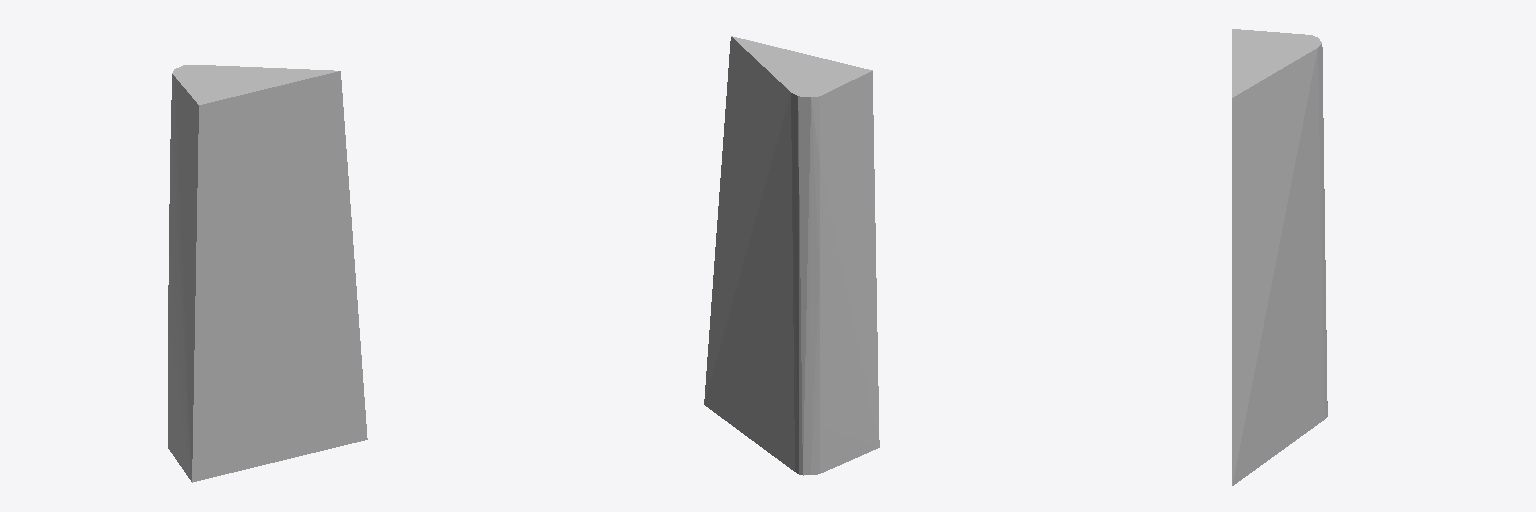
File: box_long_brown_M_collision_4.obj
The picture shows the model from 3 angles: view 1: azimuth 30°, elevation 25°; view 2: azimuth 150°, elevation 25°; view 3: azimuth 270°, elevation 25°; orthographic projection.
Size of the model in its own units: 0.0202 by 0.0413 by 0.0095.